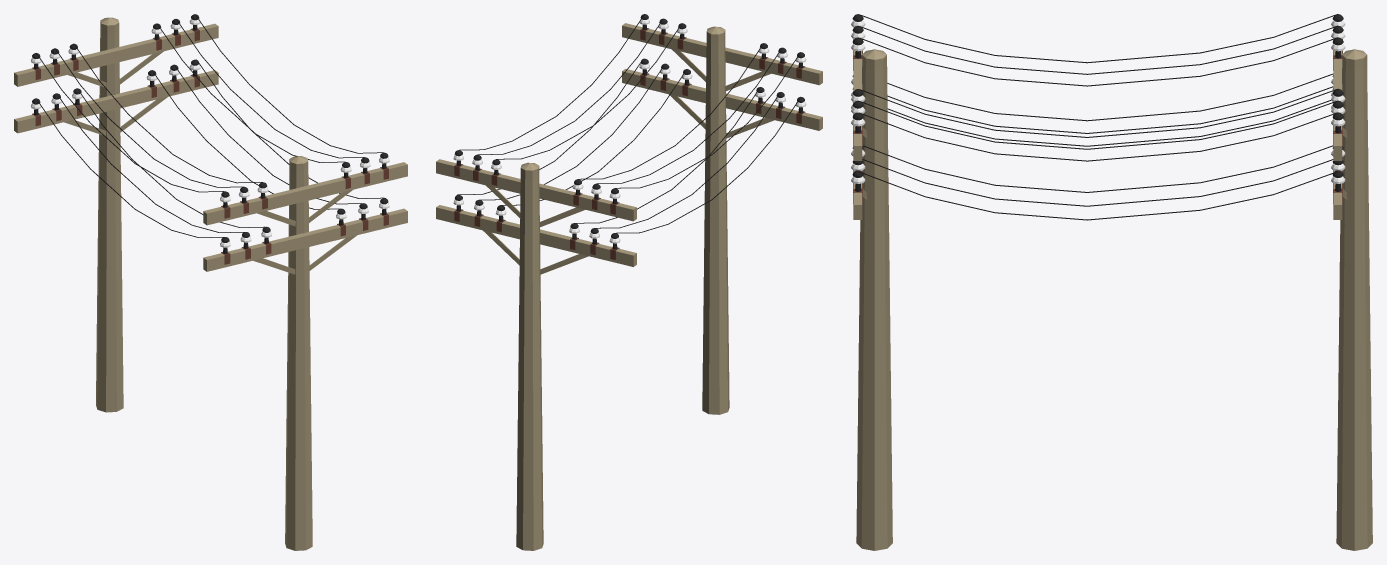
Rendered from telephonePole.gltf.
The picture shows the model from 3 angles, left to right: view 1: azimuth 30°, elevation 25°; view 2: azimuth 150°, elevation 25°; view 3: azimuth 270°, elevation 25°; orthographic projection. The views are drawn at different scales.
Visible parts, largest first — view 1: node-0; view 2: node-0; view 3: node-0.
Boxes of the visible parts, x1,y1,x2,y2 form: node-0: (14, 14, 407, 550); node-0: (436, 14, 822, 550); node-0: (851, 14, 1372, 550).
Bounding box in the file's own units: 5.87 × 10.85 × 10.4.
